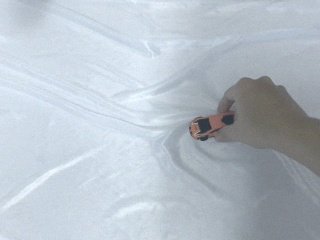toy_car: (189, 110, 236, 142)
